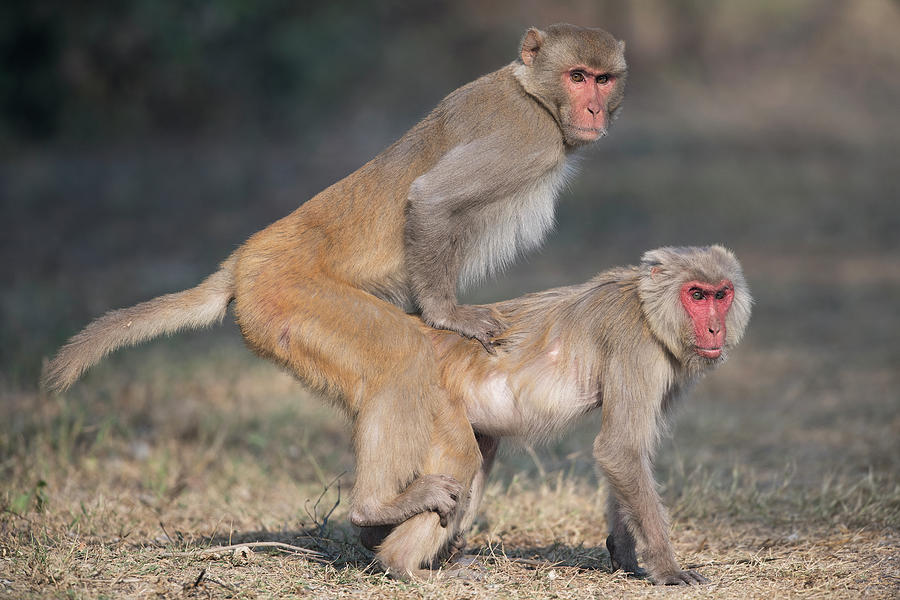monkey: (55, 23, 624, 516), (301, 237, 761, 588)
